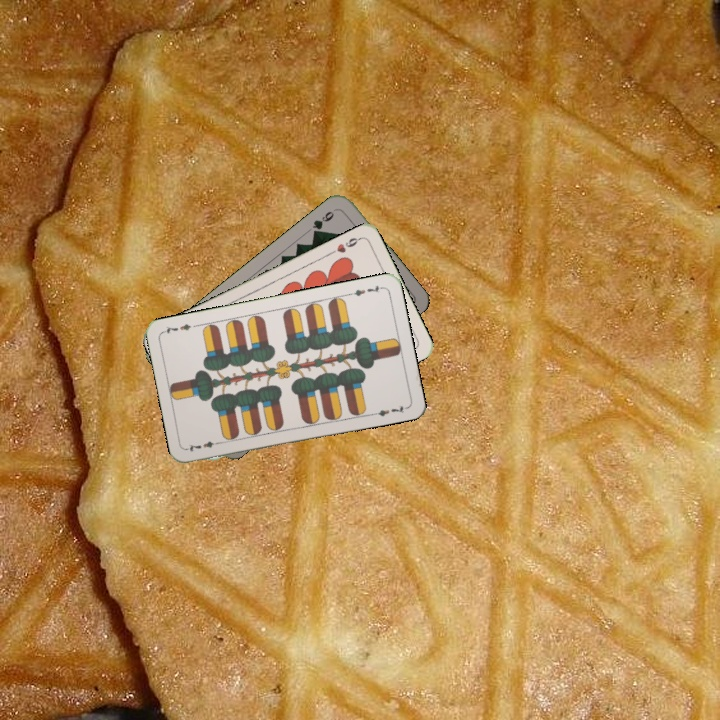E7: (345, 281, 385, 299), (184, 437, 224, 454)
G9: (308, 204, 340, 238)
H9: (326, 233, 364, 257)
